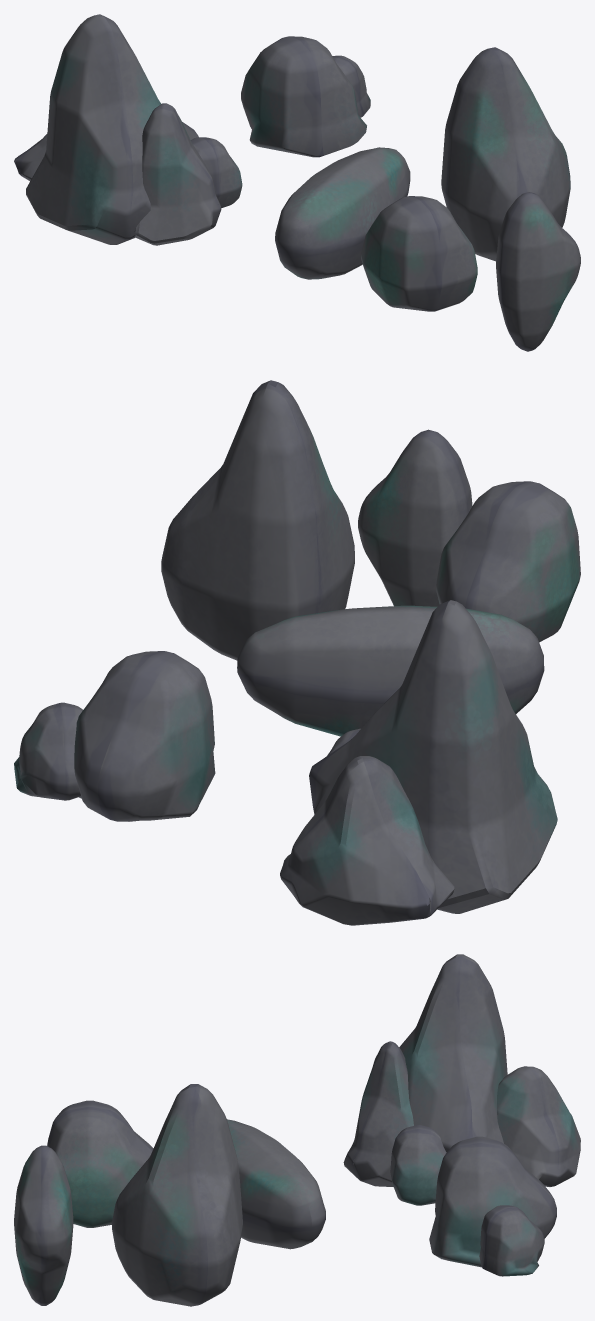
File: Rocks.fbx
The picture shows the model from 3 angles, top to bottom: view 1: azimuth 30°, elevation 25°; view 2: azimuth 150°, elevation 25°; view 3: azimuth 270°, elevation 25°; orthographic projection. The views are drawn at different scales.
Parts seen in each view (by area): view 1: rock_cluster1, rock1, rock_cluster2, rock4, rock2, rock3; view 2: rock_cluster1, rock1, rock_cluster2, rock4, rock2, rock3; view 3: rock_cluster1, rock1, rock_cluster2, rock2, rock4, rock3.
Part boxes in pixels (bbox=[...]): rock_cluster1: bbox=[14, 14, 242, 245]; rock1: bbox=[441, 47, 570, 261]; rock_cluster2: bbox=[241, 36, 370, 157]; rock4: bbox=[275, 147, 410, 279]; rock2: bbox=[361, 196, 477, 311]; rock3: bbox=[496, 192, 580, 351]; rock_cluster1: bbox=[280, 600, 557, 925]; rock1: bbox=[161, 380, 354, 660]; rock_cluster2: bbox=[14, 651, 215, 821]; rock4: bbox=[237, 605, 544, 736]; rock2: bbox=[436, 481, 580, 642]; rock3: bbox=[358, 429, 472, 606]; rock_cluster1: bbox=[343, 954, 580, 1205]; rock1: bbox=[112, 1084, 242, 1306]; rock_cluster2: bbox=[429, 1136, 556, 1276]; rock2: bbox=[47, 1100, 153, 1227]; rock4: bbox=[227, 1119, 325, 1249]; rock3: bbox=[14, 1145, 73, 1305].
Bounding box in the file's own units: 233 × 136 × 291.
